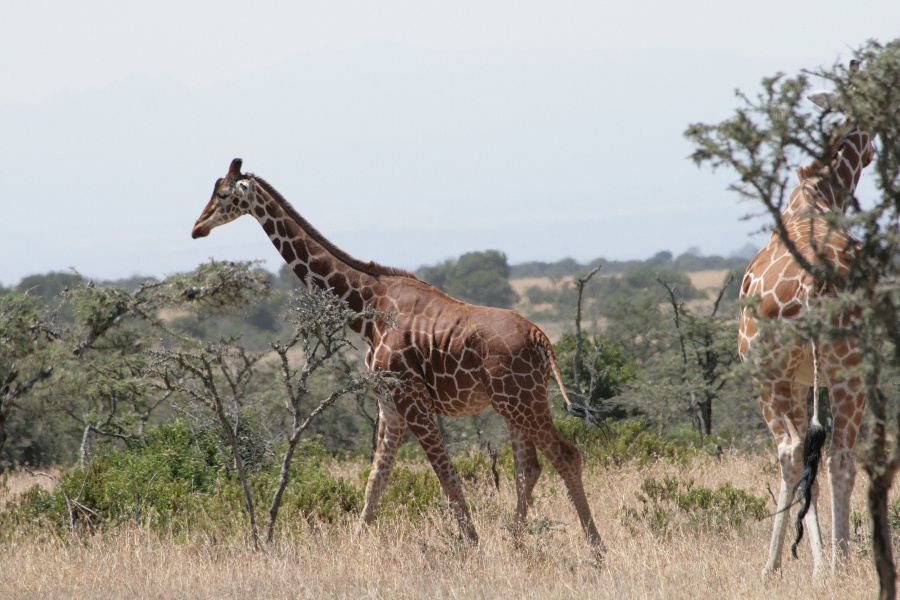giraffe: (182, 150, 615, 563), (731, 45, 898, 588)
